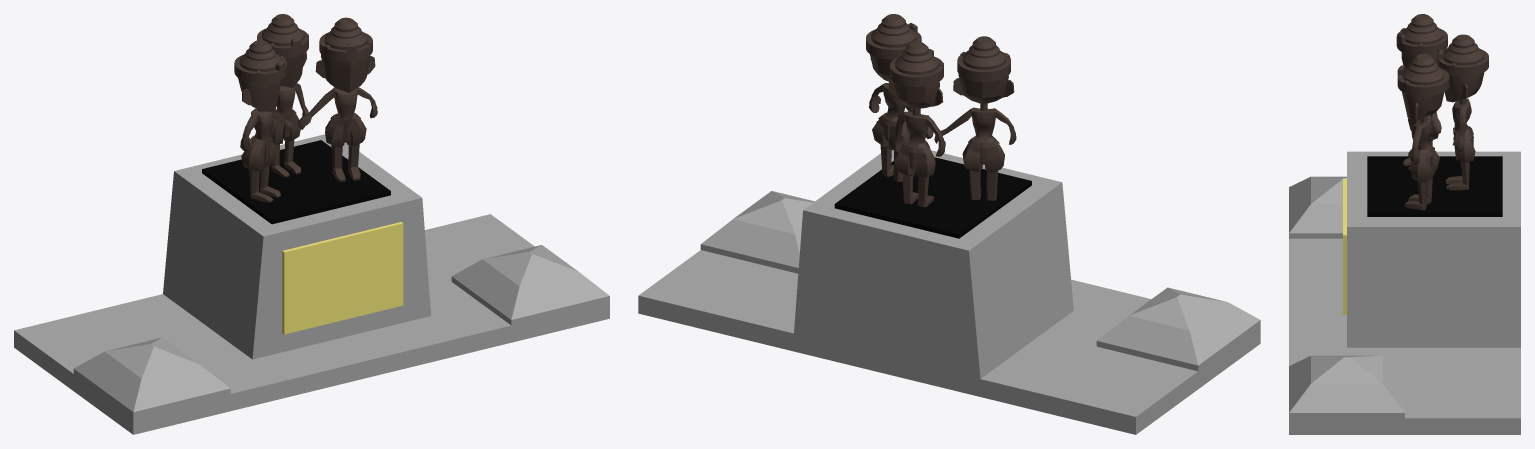
Rendered from 3King.fbx.
3 views of the same model, side by side, from view 1: azimuth 30°, elevation 25°; view 2: azimuth 150°, elevation 25°; view 3: azimuth 270°, elevation 25° (orthographic). The views are drawn at different scales.
Parts seen in each view (by area): view 1: Tan, Humman1, Humman2, Humman3; view 2: Tan, Humman2, Humman3, Humman1; view 3: Tan, Humman1, Humman3, Humman2.
Part boxes in pixels (x1,y1,x2,y2): Tan: [14, 134, 609, 434]; Humman1: [298, 17, 377, 181]; Humman2: [234, 40, 294, 202]; Humman3: [257, 14, 308, 177]; Tan: [638, 150, 1260, 434]; Humman2: [934, 36, 1016, 200]; Humman3: [888, 41, 945, 207]; Humman1: [866, 14, 933, 181]; Tan: [1289, 151, 1520, 434]; Humman1: [1397, 54, 1449, 210]; Humman3: [1437, 34, 1488, 190]; Humman2: [1396, 14, 1447, 170].
Bounding box in the file's own units: 1809 × 1069 × 785.
